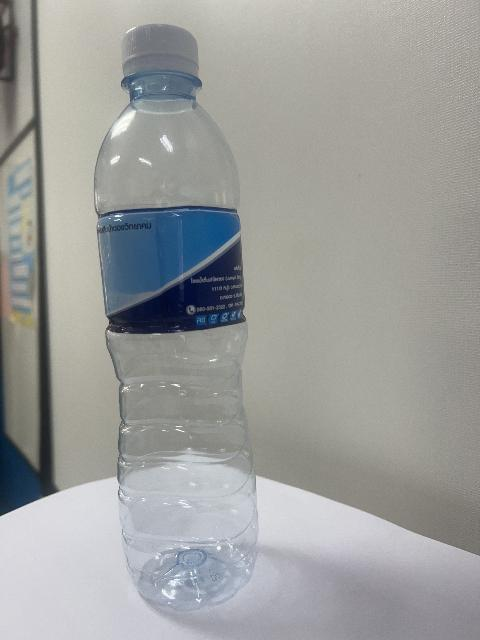bottle: (95, 25, 257, 610)
